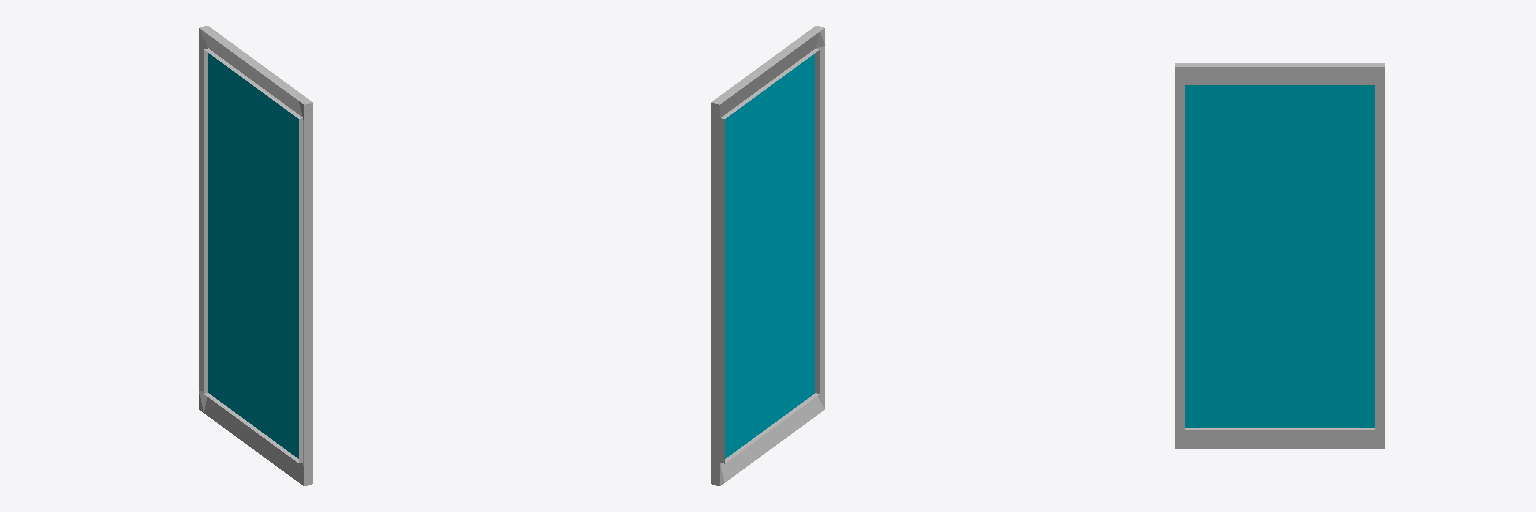
Rendered from modularModernGlassPane1.obj.
The picture shows the model from 3 angles: view 1: azimuth 30°, elevation 25°; view 2: azimuth 150°, elevation 25°; view 3: azimuth 270°, elevation 25°; orthographic projection.
Visible parts, largest first — view 1: Cube; view 2: Cube; view 3: Cube.
Boxes of the visible parts, box(x1,y1,x2,y2) form: Cube: box(199, 26, 312, 485); Cube: box(711, 26, 824, 485); Cube: box(1175, 63, 1384, 448).
Size of the model in its own units: 0.1 by 4 by 2.